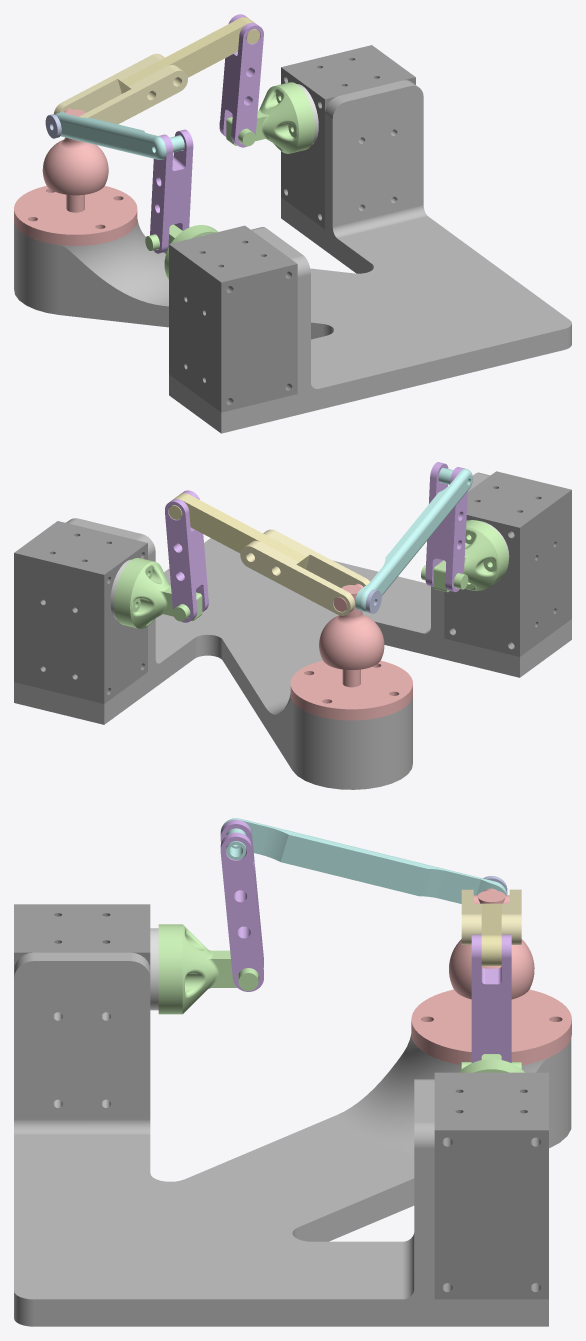
3 views of the same model, one above another, from view 1: azimuth 30°, elevation 25°; view 2: azimuth 150°, elevation 25°; view 3: azimuth 270°, elevation 25° (orthographic). The views are drawn at different scales.
Visible parts, largest first — view 1: Ground-1, XL430-1, BallJoint-1, XL430-2, Output4Bar-2, Link1_4Bar-3, Link1_4Bar-1, Link4_FinalBitTrue-1, Link4_4Bar-1, Link4_FinalBit-2, Link4_FinalBit-1, Output4Bar-4; view 2: Ground-1, XL430-2, XL430-1, BallJoint-1, Output4Bar-2, Link4_FinalBitTrue-1, Link1_4Bar-1, Output4Bar-4, Link4_FinalBit-1, Link1_4Bar-3, Link4_4Bar-1, Link4_FinalBit-2; view 3: Ground-1, XL430-2, BallJoint-1, Link4_FinalBitTrue-1, XL430-1, Output4Bar-4, Link1_4Bar-3, Link1_4Bar-1, Link4_4Bar-1, Link4_FinalBit-2, Link4_FinalBit-1, Output4Bar-2.
Part boxes in pixels (left/top/right/bottom): Ground-1: left=14, top=80, right=571, bottom=433; XL430-1: left=169, top=225, right=297, bottom=412; BallJoint-1: left=14, top=108, right=137, bottom=245; XL430-2: left=281, top=45, right=415, bottom=229; Output4Bar-2: left=219, top=82, right=314, bottom=153; Link1_4Bar-3: left=150, top=129, right=193, bottom=253; Link1_4Bar-1: left=219, top=14, right=263, bottom=147; Link4_FinalBitTrue-1: left=55, top=111, right=184, bottom=159; Link4_4Bar-1: left=121, top=17, right=260, bottom=92; Link4_FinalBit-2: left=79, top=65, right=187, bottom=124; Link4_FinalBit-1: left=54, top=53, right=164, bottom=114; Output4Bar-4: left=145, top=224, right=218, bottom=279; Ground-1: left=14, top=472, right=571, bottom=789; XL430-2: left=14, top=521, right=147, bottom=703; XL430-1: left=444, top=471, right=571, bottom=656; BallJoint-1: left=290, top=583, right=412, bottom=720; Output4Bar-2: left=114, top=558, right=208, bottom=628; Link4_FinalBitTrue-1: left=355, top=467, right=472, bottom=611; Link1_4Bar-1: left=165, top=490, right=208, bottom=622; Output4Bar-4: left=421, top=520, right=508, bottom=592; Link4_FinalBit-1: left=240, top=540, right=355, bottom=615; Link1_4Bar-3: left=425, top=462, right=467, bottom=591; Link4_4Bar-1: left=168, top=493, right=306, bottom=568; Link4_FinalBit-2: left=263, top=529, right=369, bottom=588; Ground-1: left=14, top=952, right=571, bottom=1326; XL430-2: left=434, top=1072, right=548, bottom=1299; BallJoint-1: left=411, top=888, right=571, bottom=1065; Link4_FinalBitTrue-1: left=220, top=818, right=507, bottom=903; XL430-1: left=14, top=904, right=158, bottom=1010; Output4Bar-4: left=158, top=924, right=258, bottom=1014; Link1_4Bar-3: left=220, top=820, right=263, bottom=991; Link1_4Bar-1: left=471, top=934, right=511, bottom=1062; Link4_4Bar-1: left=481, top=903, right=501, bottom=965; Link4_FinalBit-2: left=461, top=889, right=481, bottom=944; Link4_FinalBit-1: left=501, top=889, right=521, bottom=944; Output4Bar-2: left=458, top=1054, right=524, bottom=1072.
Bounding box in the file's own units: 0.139 × 0.0815 × 0.139.
